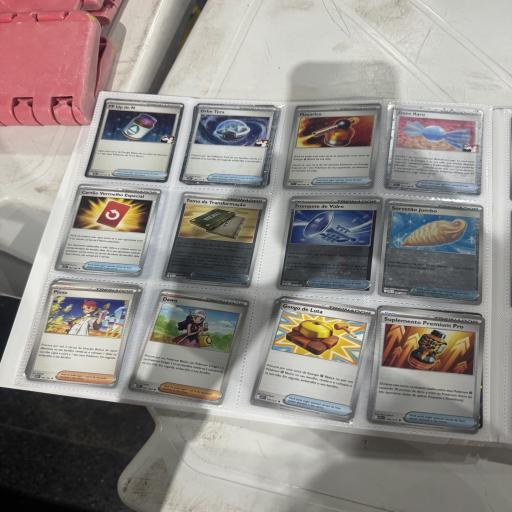card: (128, 273, 255, 419), (250, 288, 378, 424), (26, 266, 142, 402), (367, 307, 489, 435), (378, 197, 489, 306), (276, 190, 384, 295), (161, 188, 268, 290), (54, 181, 162, 279), (383, 103, 487, 196), (84, 96, 184, 184), (178, 101, 278, 188), (282, 103, 381, 189)
